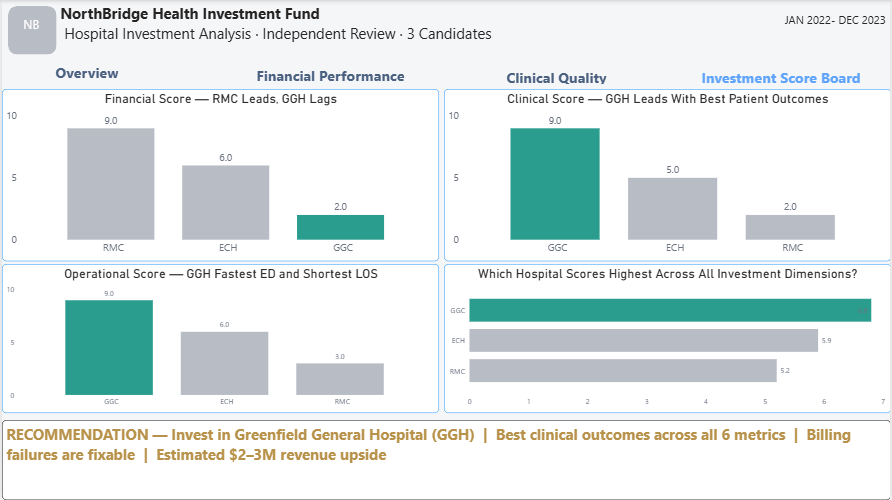

The dashboard page shown, as its layout file describes it:
{"tool":"powerbi","page":{"name":"Investment Score board","canvas":[1920,1080],"ordinal":3},"visuals":[{"type":"textbox","box":[121.3,0,939.6,54],"z":0,"group":"g1"},{"type":"shape","box":[0,6.5,1920.2,118.8],"z":0},{"type":"shape","box":[12,12,105,105],"z":1000},{"type":"textbox","box":[129.2,43.2,982.8,73.4],"z":1000,"group":"g1"},{"type":"group","id":"g1","title":"Group 1","box":[121.3,0,1797.1,116.6],"z":2000},{"type":"textbox","box":[1454,6.5,464.4,110.2],"z":2000,"group":"g1"},{"type":"shape","box":[0,125.3,1920.2,54],"z":3000},{"type":"actionButton","box":[494.6,138.2,429.8,47.5],"z":4000},{"type":"actionButton","box":[997.9,142.6,399.6,38.9],"z":5000},{"type":"actionButton","box":[1453.7,142.6,457.9,38.9],"z":6000},{"type":"clusteredColumnChart","title":"Financial Score — RMC Leads, GGH Lags","fields":{"Category":["ScoreBoard.Hospital "],"Y":["Sum(ScoreBoard.Score)"]},"box":[0,192.2,943.9,371.5],"z":8000},{"type":"clusteredColumnChart","title":"Clinical Score — GGH Leads With Best Patient Outcomes","fields":{"Category":["ScoreBoard.Hospital "],"Y":["Sum(ScoreBoard.Score)"]},"box":[954.7,192.2,965.5,371.5],"z":9000},{"type":"clusteredColumnChart","title":"Operational Score — GGH Fastest ED and Shortest LOS","fields":{"Category":["ScoreBoard.Hospital "],"Y":["Sum(ScoreBoard.Score)"]},"box":[0,570.2,943.9,321.8],"z":10000},{"type":"clusteredBarChart","title":"Which Hospital Scores Highest Across All Investment Dimensions?","fields":{"Category":["ScoreBoard.Hospital "],"Y":["Sum(ScoreBoard.Score)"]},"box":[954.7,570.2,965.5,321.8],"z":11000},{"type":"textbox","box":[0,907.2,1920.2,172.8],"z":14000},{"type":"actionButton","box":[17.3,131.8,332.6,47.5],"z":15000},{"type":"textbox","box":[31.3,27.6,66.2,75.4],"z":16000}]}

Visuals, with their boxes in screenshot pixels (x1, y1, x2, y2), scaled from the page's 1920x1080 canvas onto the 892x500 screenshot:
textbox: box=[56, 0, 493, 25]
shape: box=[0, 3, 891, 58]
shape: box=[6, 6, 54, 54]
textbox: box=[60, 20, 517, 54]
"Group 1" group: box=[56, 0, 891, 54]
textbox: box=[676, 3, 891, 54]
shape: box=[0, 58, 891, 83]
actionButton: box=[230, 64, 429, 86]
actionButton: box=[464, 66, 649, 84]
actionButton: box=[675, 66, 888, 84]
"Financial Score — RMC Leads, GGH Lags" clusteredColumnChart: box=[0, 89, 439, 261]
"Clinical Score — GGH Leads With Best Patient Outcomes" clusteredColumnChart: box=[444, 89, 891, 261]
"Operational Score — GGH Fastest ED and Shortest LOS" clusteredColumnChart: box=[0, 264, 439, 413]
"Which Hospital Scores Highest Across All Investment Dimensions?" clusteredBarChart: box=[444, 264, 891, 413]
textbox: box=[0, 420, 891, 499]
actionButton: box=[8, 61, 163, 83]
textbox: box=[15, 13, 45, 48]
